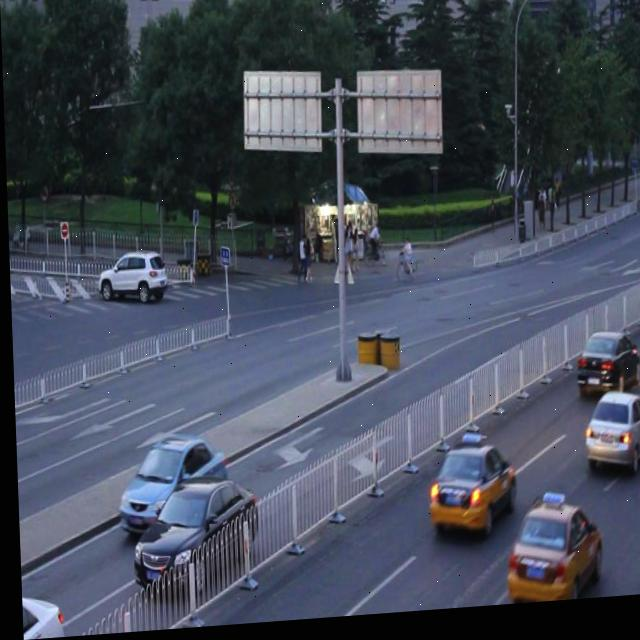car: (126, 476, 257, 591), (113, 429, 223, 534), (500, 496, 599, 612), (420, 442, 513, 543), (578, 394, 640, 484), (571, 338, 636, 405), (96, 247, 166, 307), (17, 575, 59, 639)
